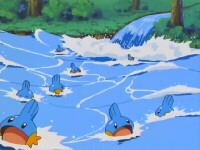mudkip: (1, 98, 41, 148), (102, 104, 136, 140), (154, 94, 177, 118), (14, 77, 36, 102), (45, 73, 66, 98), (69, 61, 82, 76), (52, 43, 66, 55), (124, 52, 134, 63)
